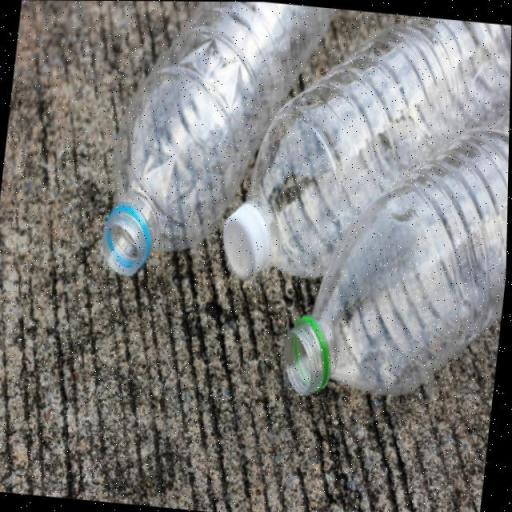plastic: (281, 66, 511, 414), (241, 1, 512, 296), (99, 0, 332, 294)
